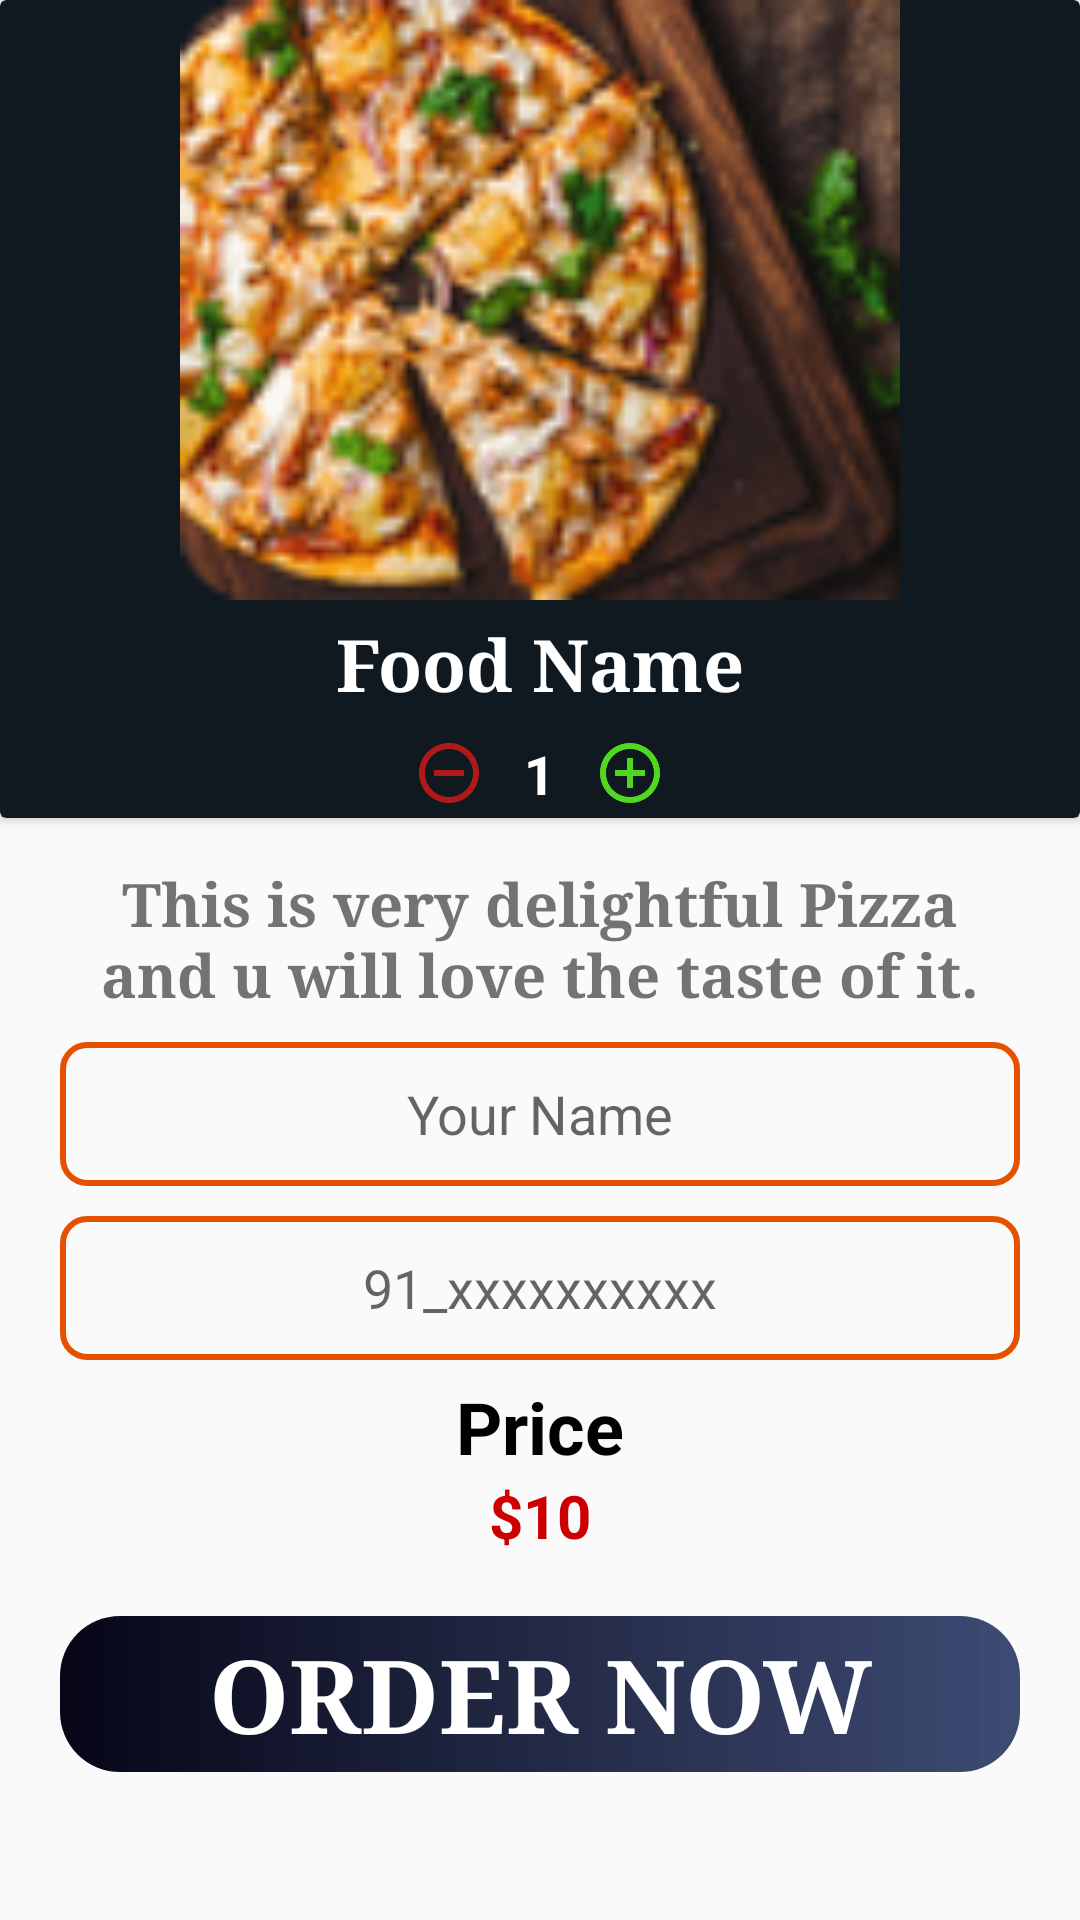

Named icons in this screenshot (1080x1920) and their centers, [x,y]:
add circle: [630,773]
remove circle: [449,773]
